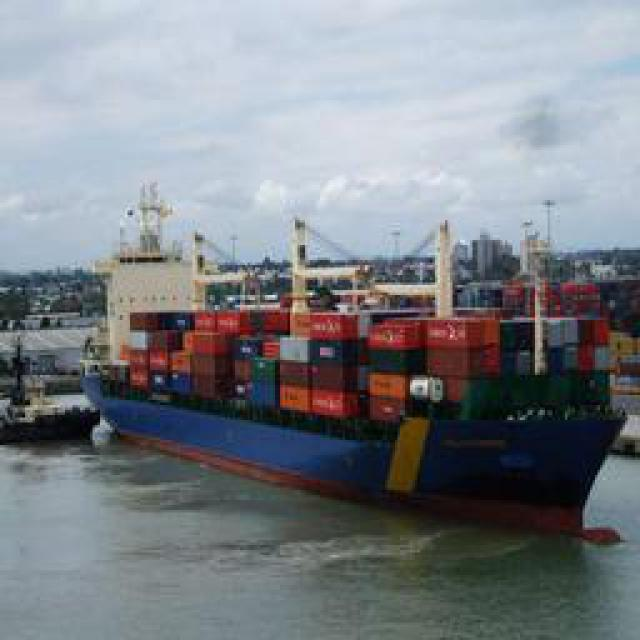Ship: (82, 230, 630, 530)
